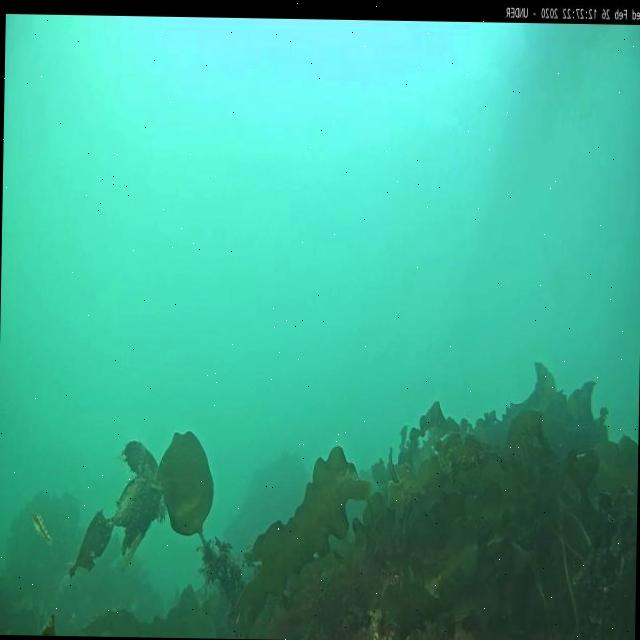fish: (30, 511, 50, 546)
